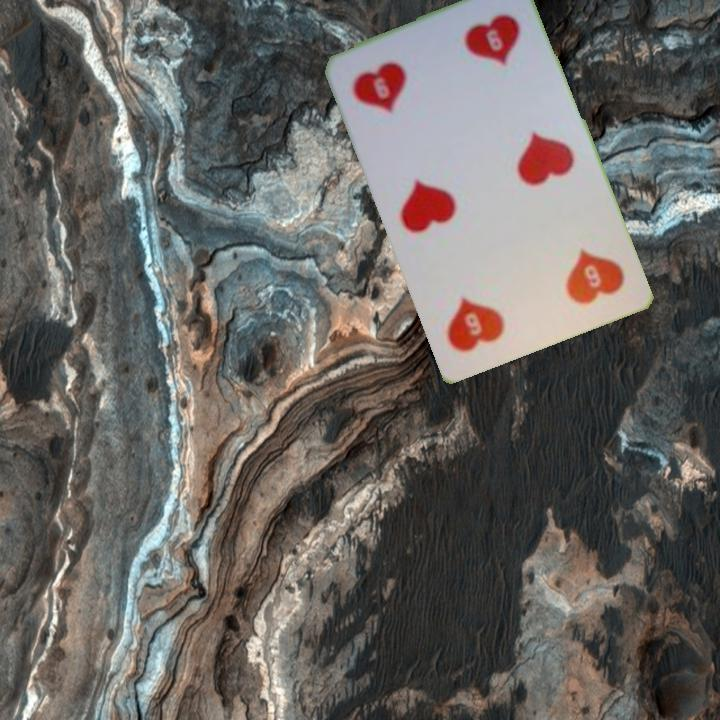h_6.png: (512, 216, 634, 331), (339, 30, 462, 144)
